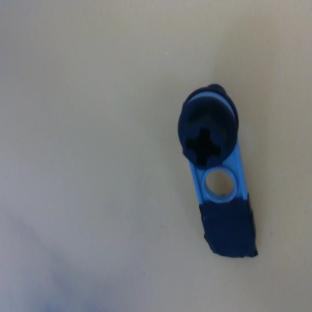part_1_bad: (171, 81, 259, 264)
